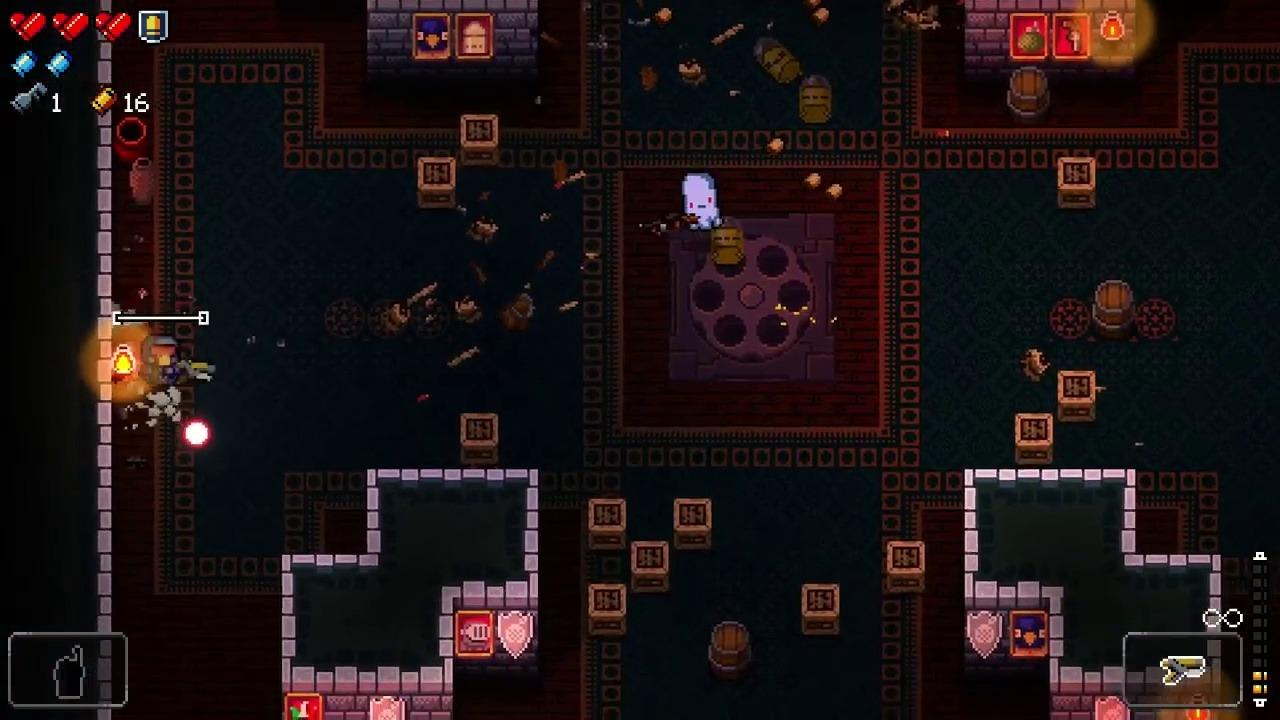bullet: (184, 419, 210, 449)
dead_bullet_kin: (754, 38, 799, 84), (708, 213, 745, 266), (799, 72, 833, 123)
hollowpoint: (683, 173, 724, 230)
player: (142, 335, 181, 388)
teleporter: (667, 213, 836, 381)
